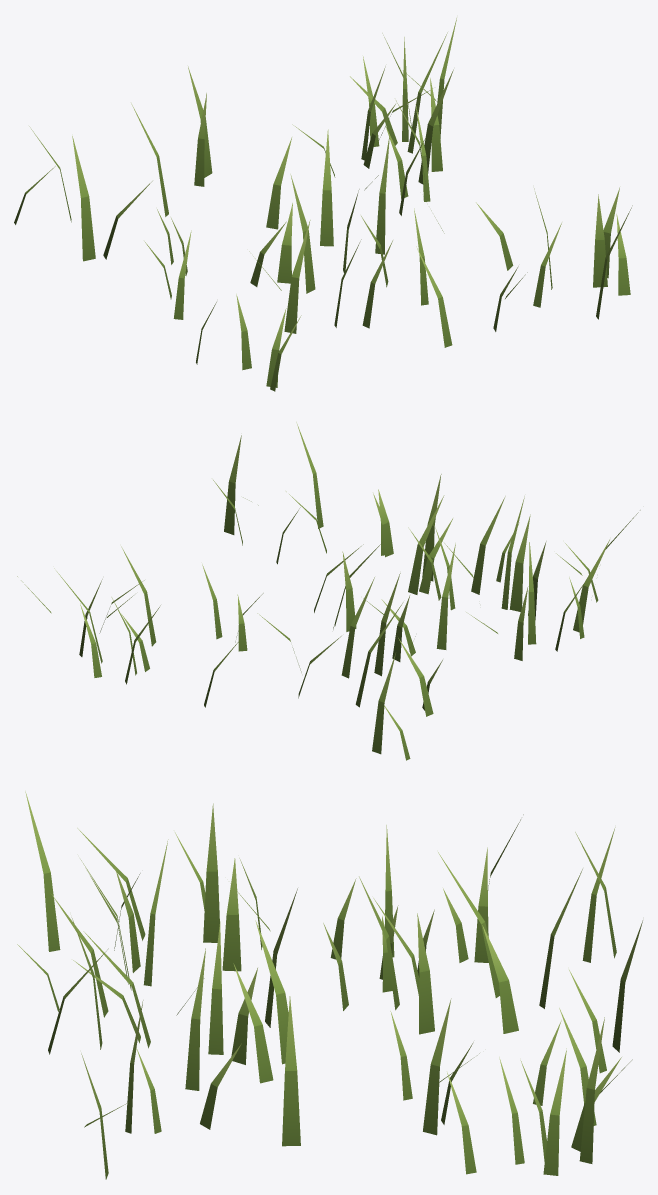
The model's file is WoodlandGrass_1.glb.
The picture shows the model from 3 angles, top to bottom: view 1: azimuth 30°, elevation 25°; view 2: azimuth 150°, elevation 25°; view 3: azimuth 270°, elevation 25°; orthographic projection. The views are drawn at different scales.
Visible parts, largest first — view 1: WoodlandGrass_1; view 2: WoodlandGrass_1; view 3: WoodlandGrass_1.
Part boxes in pixels (left/top/right/bottom): WoodlandGrass_1: left=14, top=18, right=632, bottom=391; WoodlandGrass_1: left=17, top=422, right=640, bottom=760; WoodlandGrass_1: left=17, top=791, right=642, bottom=1179.
Bounding box in the file's own units: 1.49 × 0.348 × 1.45.
